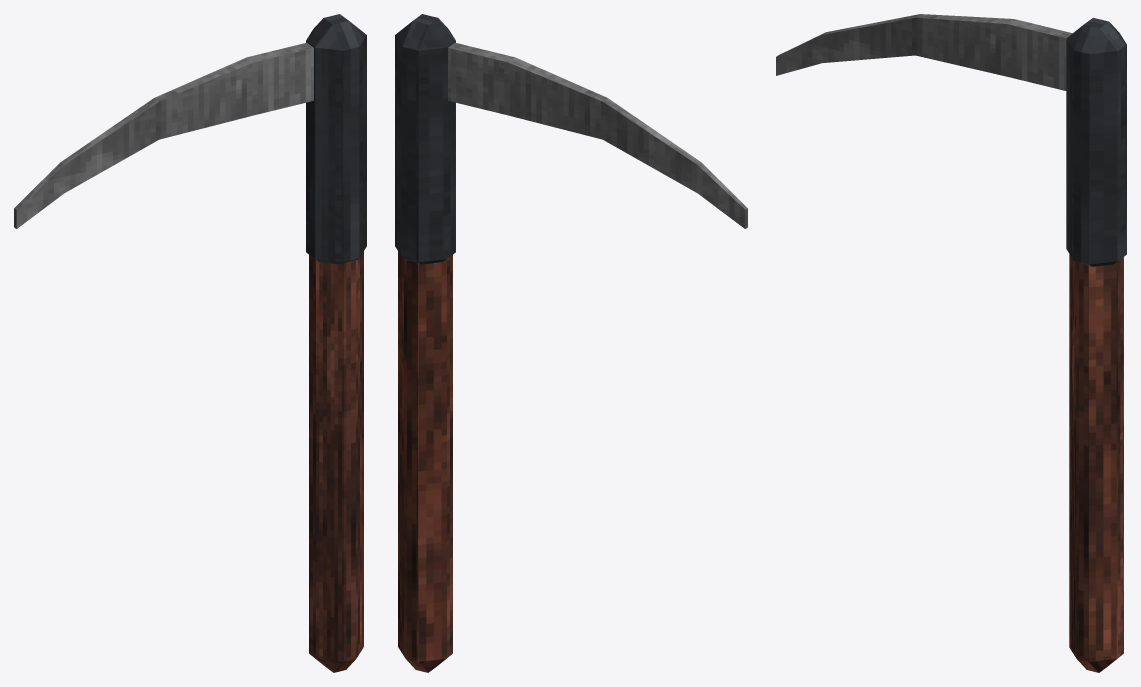
Rendered from pixel_tools_sickle_lowpoly.fbx.
3 views of the same model, side by side, from view 1: azimuth 30°, elevation 25°; view 2: azimuth 150°, elevation 25°; view 3: azimuth 330°, elevation 25° (orthographic).
Visible parts, largest first — view 1: psx_sickle_handle, psx_sickle_handle4, psx_sickle; view 2: psx_sickle_handle, psx_sickle_handle4, psx_sickle; view 3: psx_sickle_handle, psx_sickle_handle4, psx_sickle.
Boxes of the visible parts, <box> form: psx_sickle_handle: <box>309,251,363,672</box>; psx_sickle_handle4: <box>306,14,366,264</box>; psx_sickle: <box>14,42,313,228</box>; psx_sickle_handle: <box>398,251,452,672</box>; psx_sickle_handle4: <box>395,14,455,264</box>; psx_sickle: <box>448,42,747,228</box>; psx_sickle_handle: <box>1069,254,1123,672</box>; psx_sickle_handle4: <box>1066,17,1126,266</box>; psx_sickle: <box>776,14,1072,90</box>.
Size of the model in its own units: 68.47 by 123 by 10.2.
